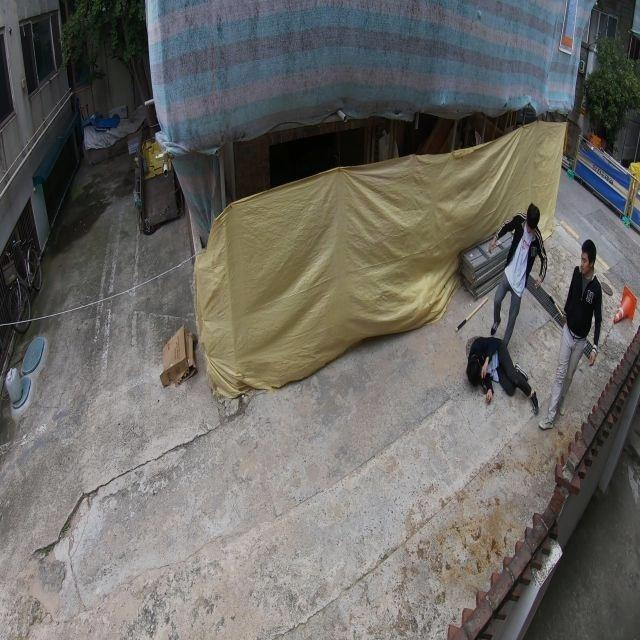fight: (459, 203, 548, 415), (540, 241, 602, 428)
